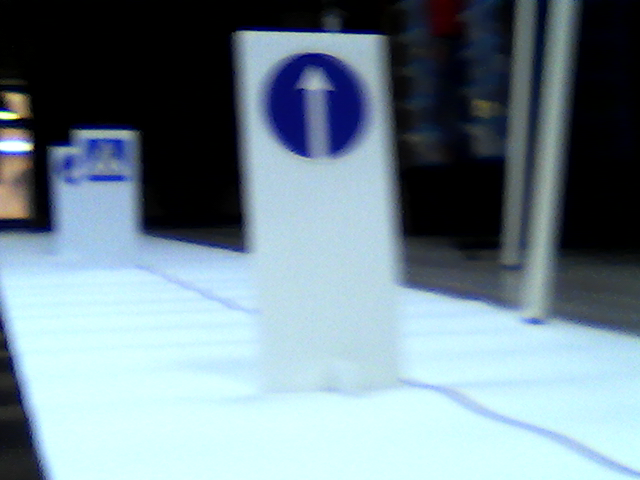forw: (267, 52, 369, 156)
pesh: (84, 134, 126, 185)
